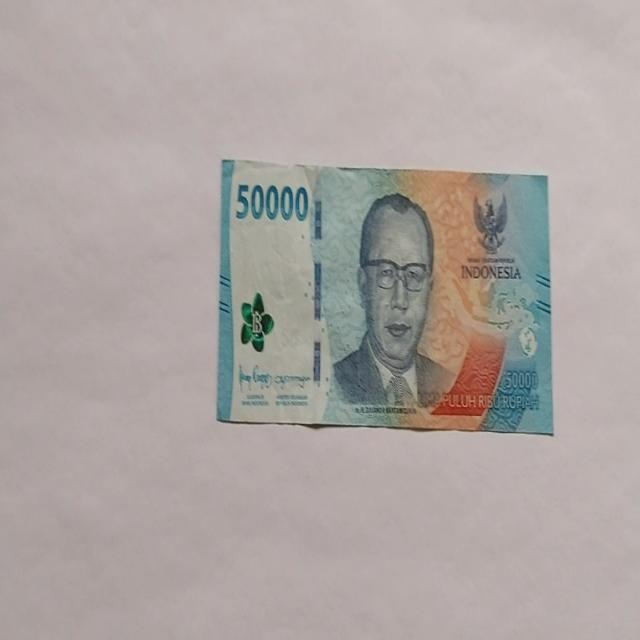lima puluh ribu rupiah: (215, 156, 552, 434), (326, 190, 456, 423)
